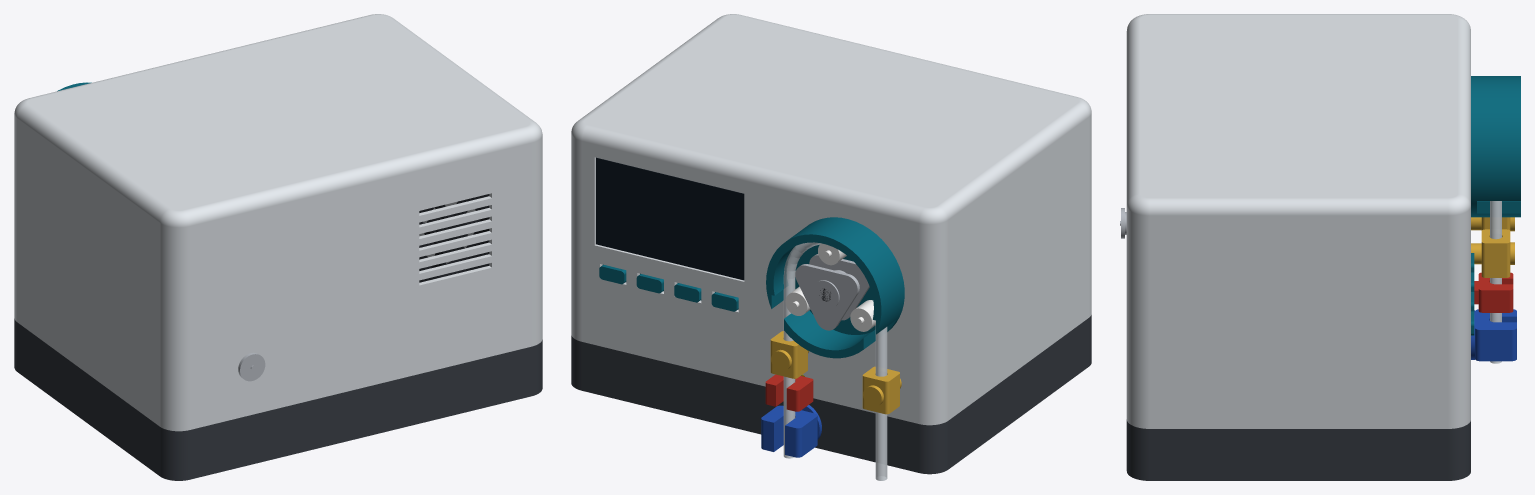
The model's file is meridian_ip1_mech.glb.
3 renders of one model, left to right at view 1: azimuth 30°, elevation 25°; view 2: azimuth 150°, elevation 25°; view 3: azimuth 270°, elevation 25°, orthographic. The views are drawn at different scales.
Visible parts, largest first — view 1: top_cover, base_tray, fan, dc_inlet_24v; view 2: top_cover, base_tray, display, pump_housing, pump_rotor, pump_tube, solenoid_pinch_valve, keypad, pressure_sensor_inlet, pump_rollers, pressure_sensor_outlet, bubble_sensor; view 3: top_cover, base_tray, pump_housing, solenoid_pinch_valve, pressure_sensor_outlet, bubble_sensor, pump_tube, pressure_sensor_inlet.
Part boxes in pixels (x1,y1,x2,y2): top_cover: [14, 14, 542, 431]; base_tray: [14, 255, 542, 480]; fan: [419, 194, 489, 282]; dc_inlet_24v: [238, 352, 265, 381]; top_cover: [571, 14, 1091, 425]; base_tray: [571, 315, 1091, 474]; display: [596, 157, 744, 280]; pump_housing: [766, 217, 904, 358]; pump_rotor: [795, 254, 869, 330]; pump_tube: [783, 242, 887, 480]; solenoid_pinch_valve: [761, 405, 821, 457]; keypad: [599, 264, 738, 311]; pressure_sensor_inlet: [862, 366, 901, 414]; pump_rollers: [785, 243, 875, 331]; pressure_sensor_outlet: [770, 331, 808, 378]; bubble_sensor: [765, 374, 813, 411]; top_cover: [1126, 14, 1470, 428]; base_tray: [1126, 419, 1470, 480]; pump_housing: [1471, 76, 1520, 217]; solenoid_pinch_valve: [1471, 309, 1516, 361]; pressure_sensor_outlet: [1471, 229, 1514, 277]; bubble_sensor: [1474, 272, 1513, 312]; pump_tube: [1490, 201, 1501, 363]; pressure_sensor_inlet: [1471, 217, 1514, 231].
Bounding box in the file's own units: 240 × 164 × 210.
